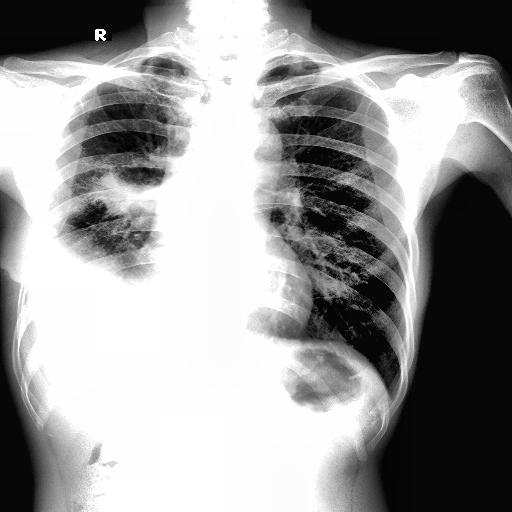10- Pleural effusion: (15, 214, 185, 370), (22, 222, 168, 340), (23, 232, 175, 334)
13- Pulmonary fibrosis: (68, 162, 168, 232)
4- Consolidation: (93, 172, 169, 227), (90, 176, 168, 222)
7- Lung Opacity: (54, 226, 158, 306), (38, 234, 166, 294), (93, 172, 169, 227)
8- Nodule-Mass: (68, 162, 168, 232)
